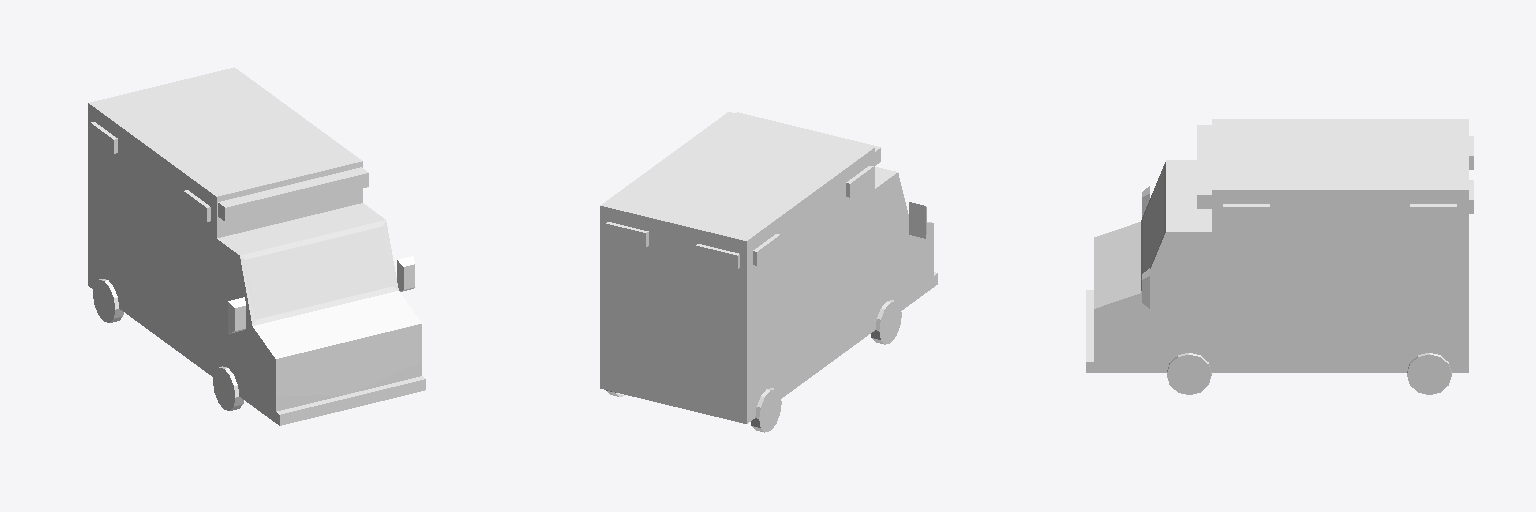
The model's file is Car1.obj.
3 views of the same model, side by side, from view 1: azimuth 30°, elevation 25°; view 2: azimuth 150°, elevation 25°; view 3: azimuth 270°, elevation 25° (orthographic).
Parts seen in each view (by area): view 1: ambo_mesh_Mesh; view 2: ambo_mesh_Mesh; view 3: ambo_mesh_Mesh.
Boxes of the visible parts, x1=… form: ambo_mesh_Mesh: x1=88, y1=67, x2=425, y2=425; ambo_mesh_Mesh: x1=600, y1=112, x2=937, y2=432; ambo_mesh_Mesh: x1=1086, y1=119, x2=1473, y2=394.
Bounding box in the file's own units: 3.44 × 3.6 × 6.21.